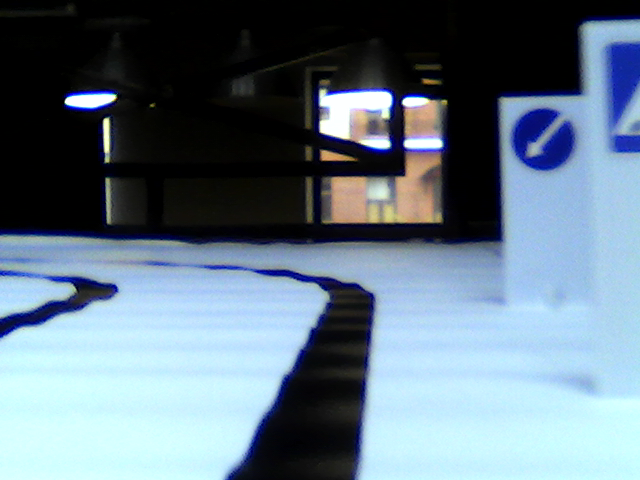prep: (511, 106, 577, 172)
